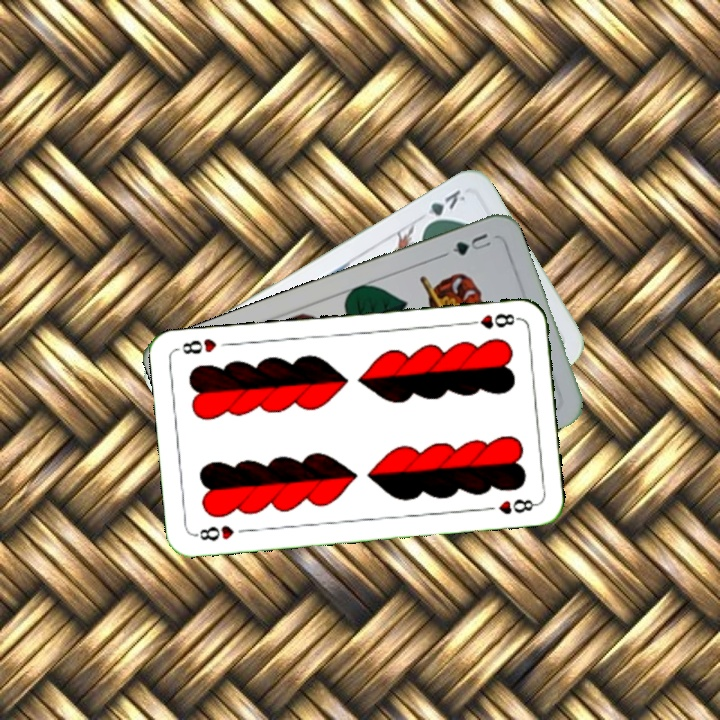GK: (420, 185, 468, 230)
GU: (448, 229, 494, 258)
H8: (463, 309, 522, 331), (191, 521, 237, 544)
